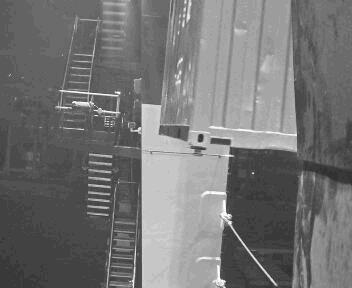twist_lock_1: (186, 144, 210, 163)
